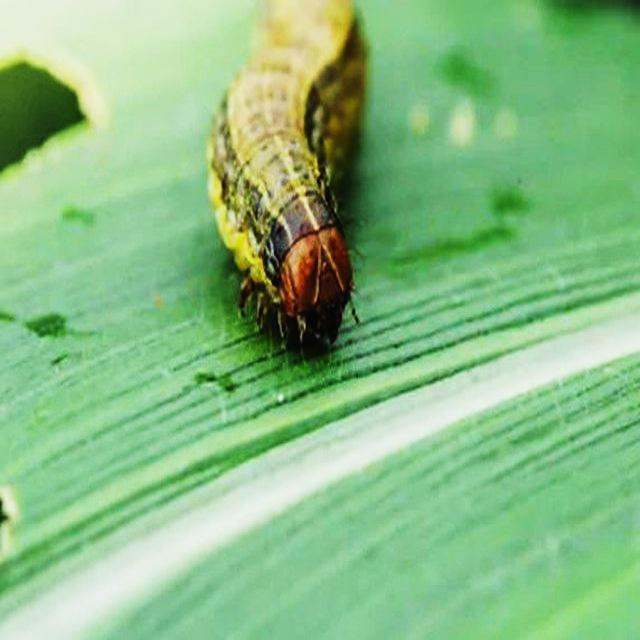gusano_cogollero: (208, 0, 368, 343)
